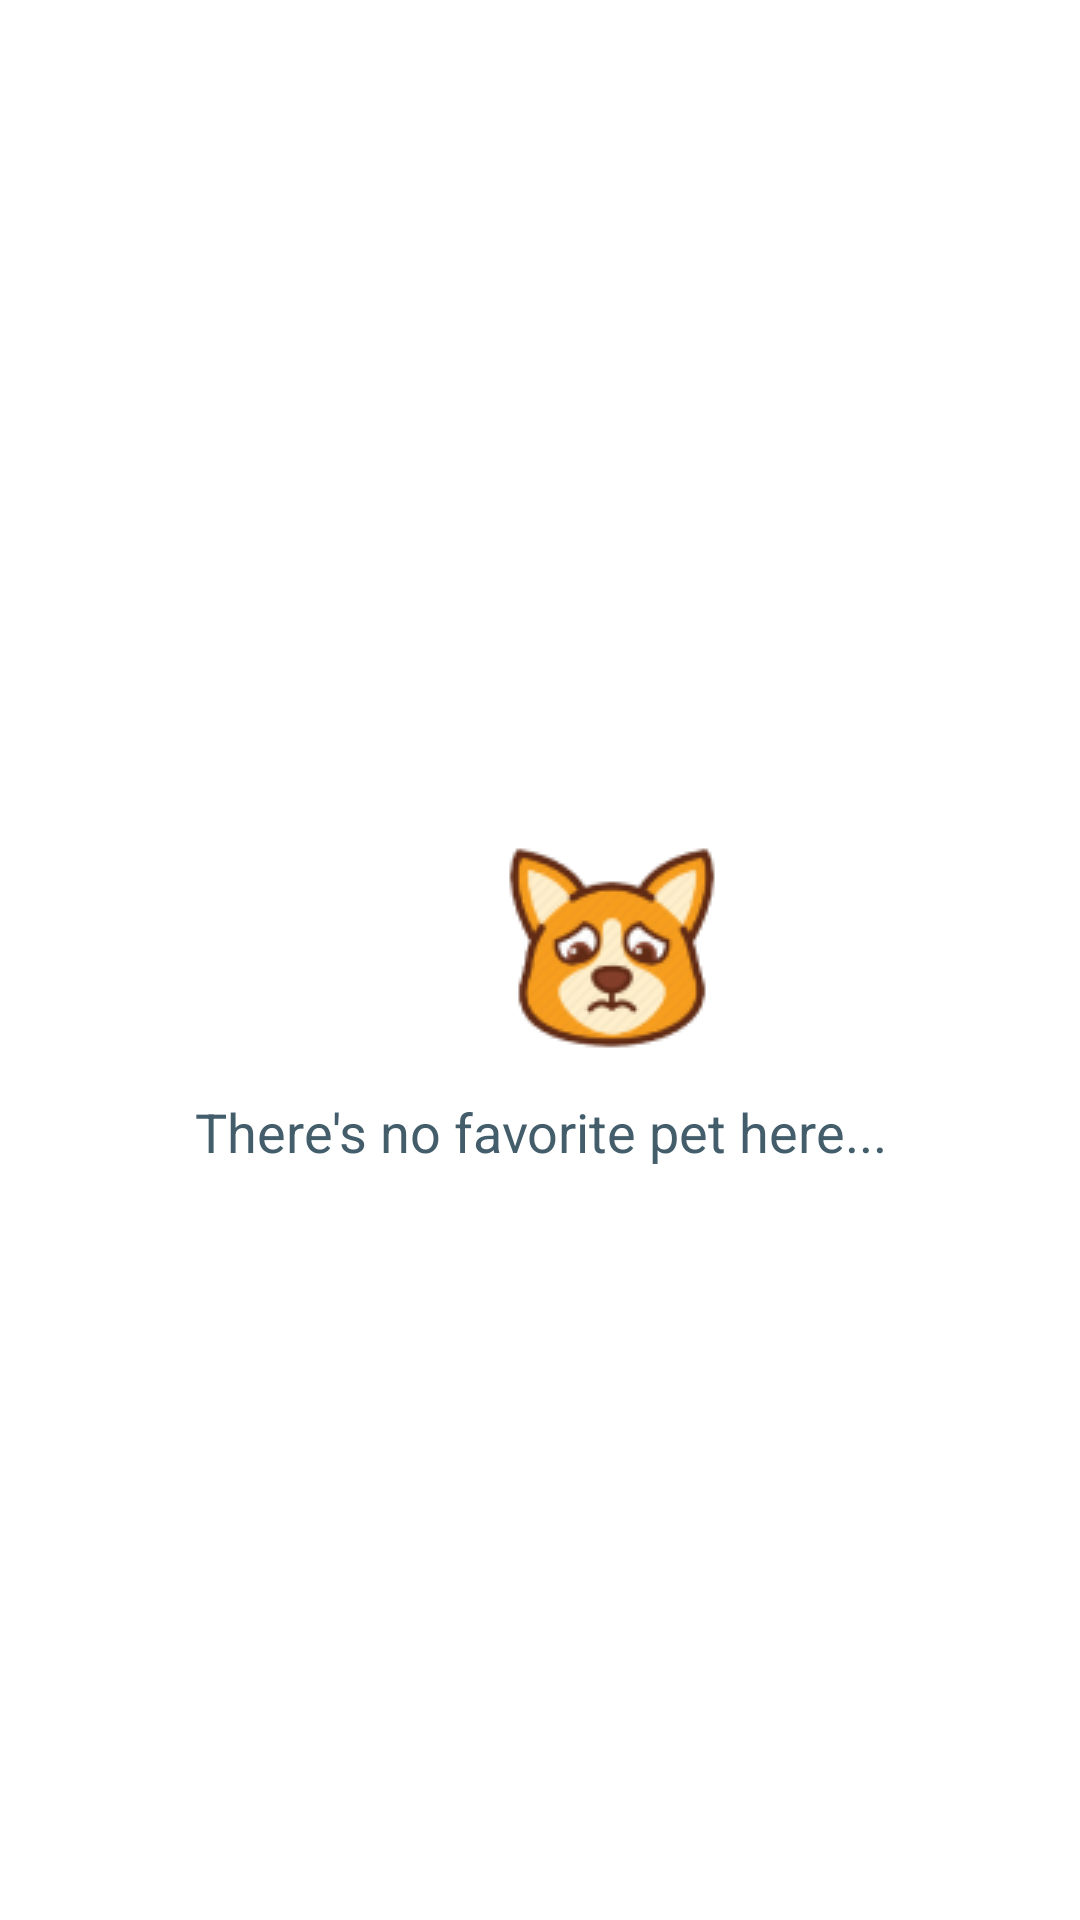

Icon bounding boxes for this 1080px x 1920px phone screenshot, format (x1, y1, x2, y2):
sad: (509, 848, 715, 1120)
